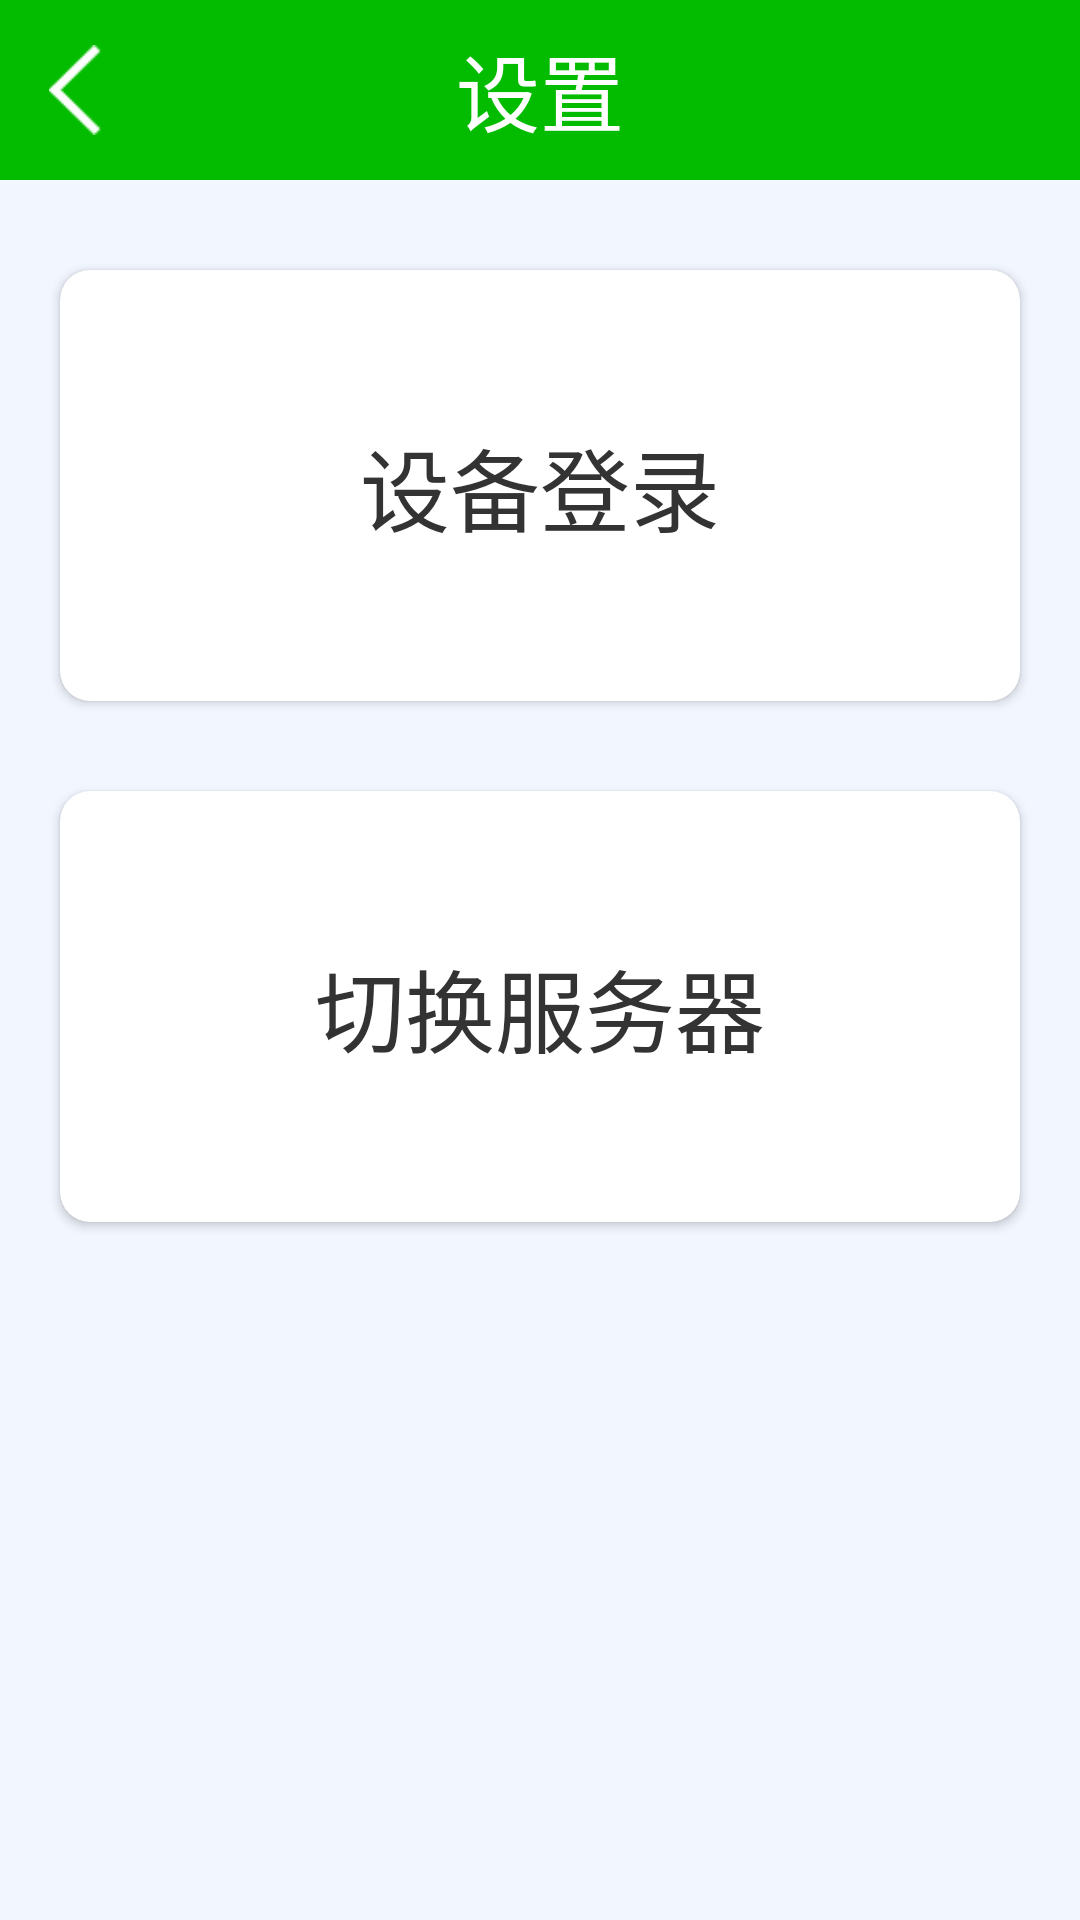

Screen size 1080px×1920px. Icon name, then its box in pixels as (x1, y1, x2, y2):
back: (49, 45, 101, 135)
